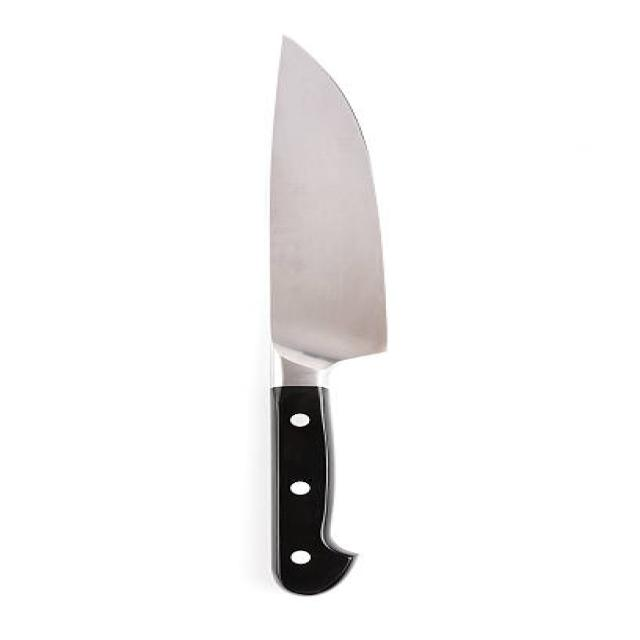knife: (268, 27, 402, 596)
